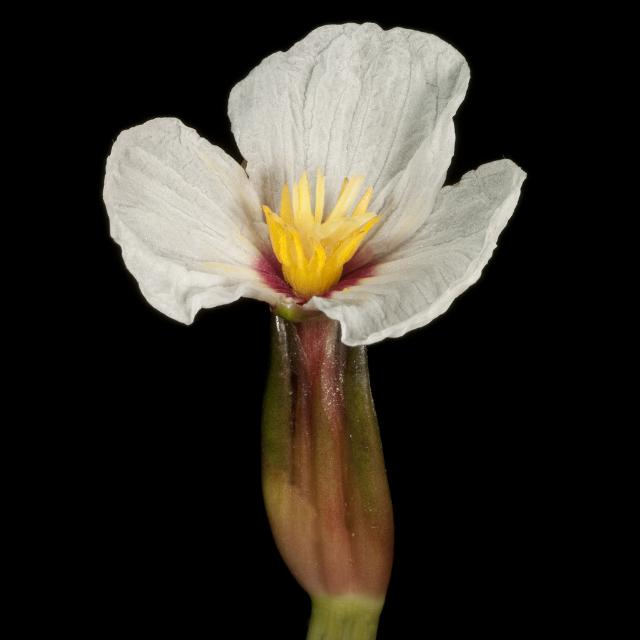Flower: (94, 22, 518, 570)
